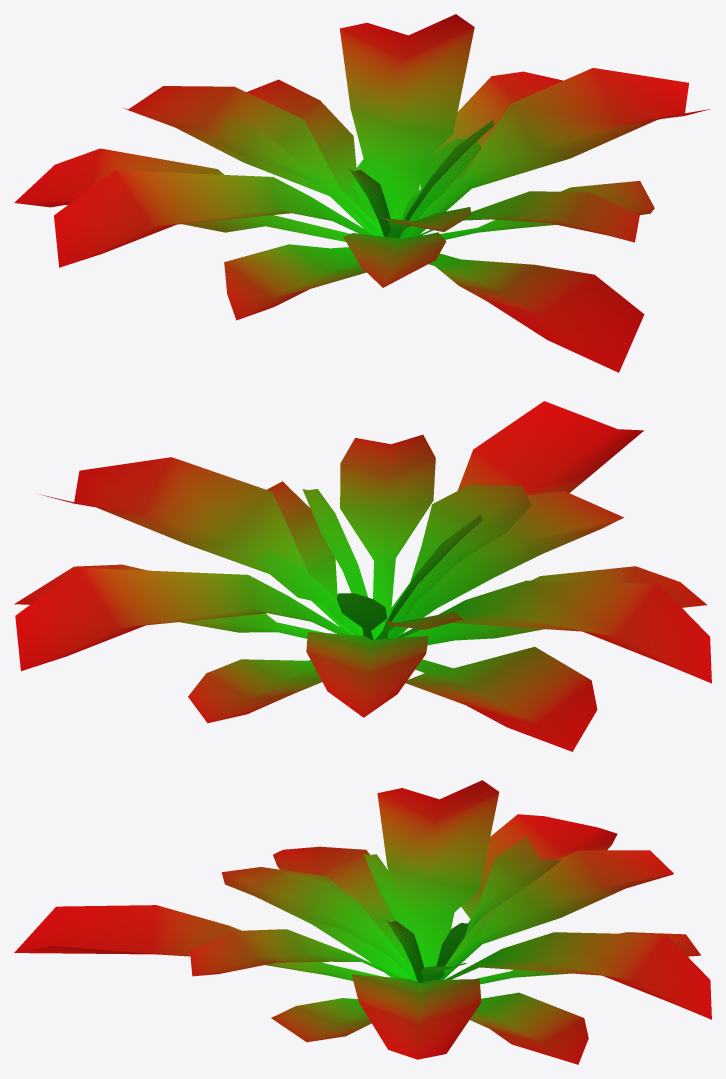
Rendered from Var24_LOD0.fbx.
3 renders of one model, top to bottom at view 1: azimuth 30°, elevation 25°; view 2: azimuth 150°, elevation 25°; view 3: azimuth 270°, elevation 25°, orthographic. The views are drawn at different scales.
Parts seen in each view (by area): view 1: _yjth_Var24_LOD0; view 2: _yjth_Var24_LOD0; view 3: _yjth_Var24_LOD0.
Boxes of the visible parts, x1=… form: _yjth_Var24_LOD0: x1=14, y1=14, x2=710, y2=372; _yjth_Var24_LOD0: x1=14, y1=401, x2=711, y2=751; _yjth_Var24_LOD0: x1=14, y1=780, x2=711, y2=1064.
Bounding box in the file's own units: 21.73 × 4.05 × 22.94.
